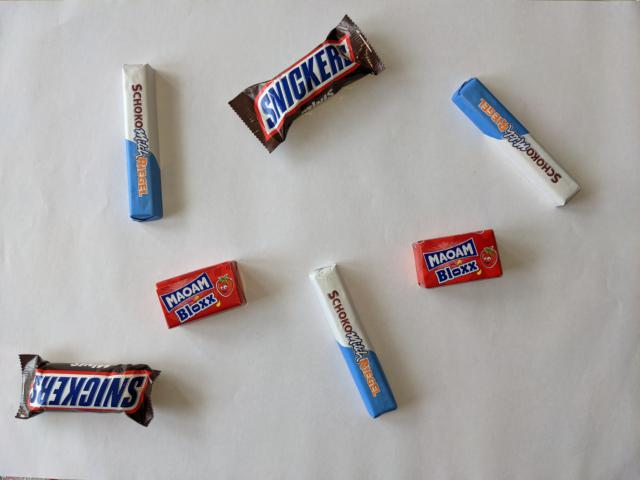MAOAM: (152, 258, 249, 333), (409, 226, 504, 292)
Schokoriegel: (448, 74, 583, 211), (306, 259, 401, 420), (118, 59, 166, 225)
Snickers: (225, 11, 387, 156), (11, 352, 163, 429)
